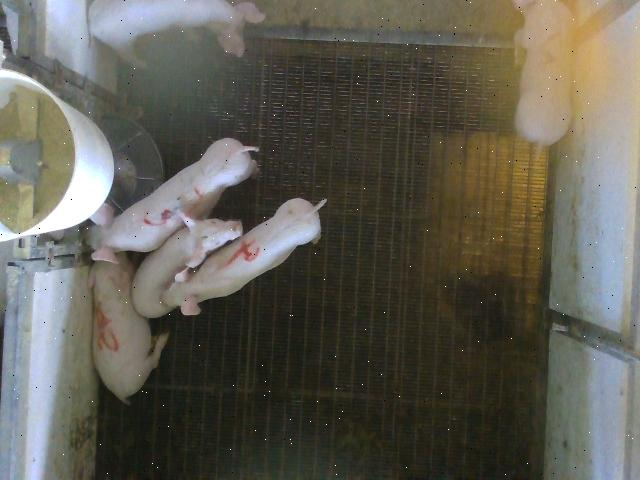pig-1: (89, 1, 265, 68)
pig-2: (515, 1, 575, 145)
pig-3: (86, 139, 258, 262)
pig-4: (162, 199, 326, 315)
pig-5: (89, 253, 169, 404)
